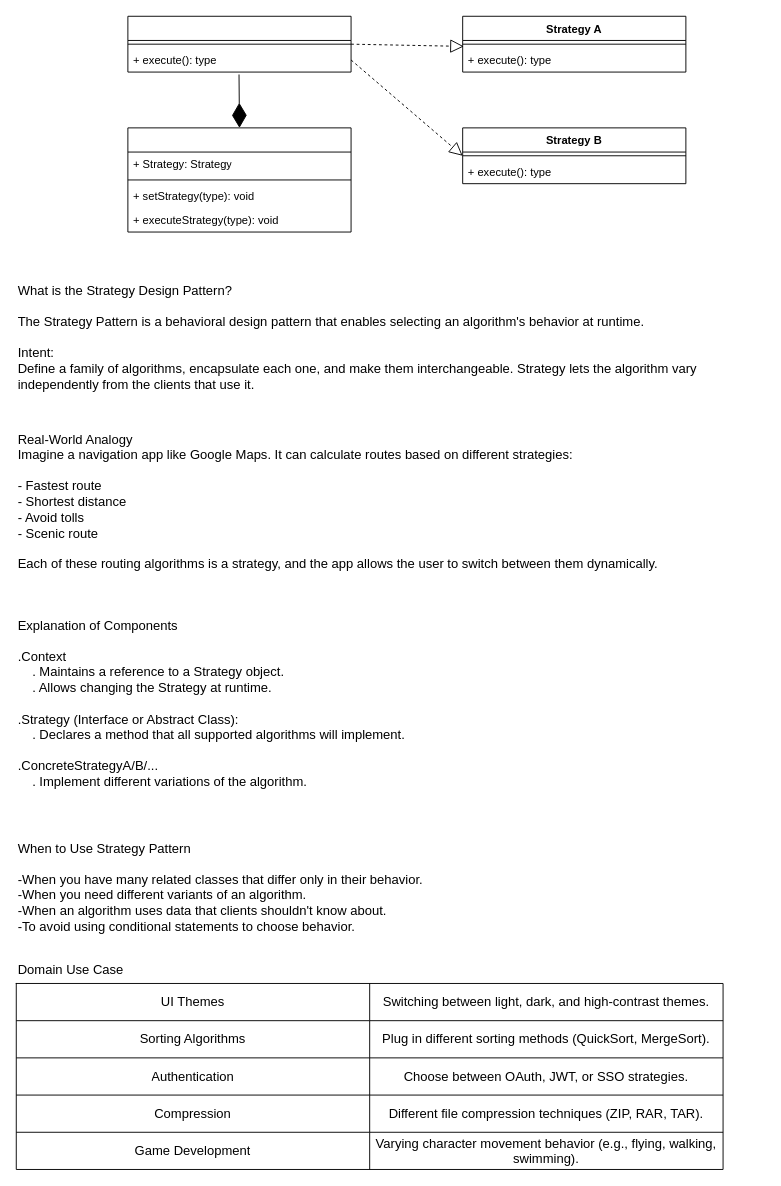
Some shapes in this 781 by 1186 pixel diagram are drawn without their labels. Here are the shapes that lost their labels. From the top down, the box of each, then its label:
(127, 15, 351, 72): Strategy
(127, 127, 351, 232): Context
